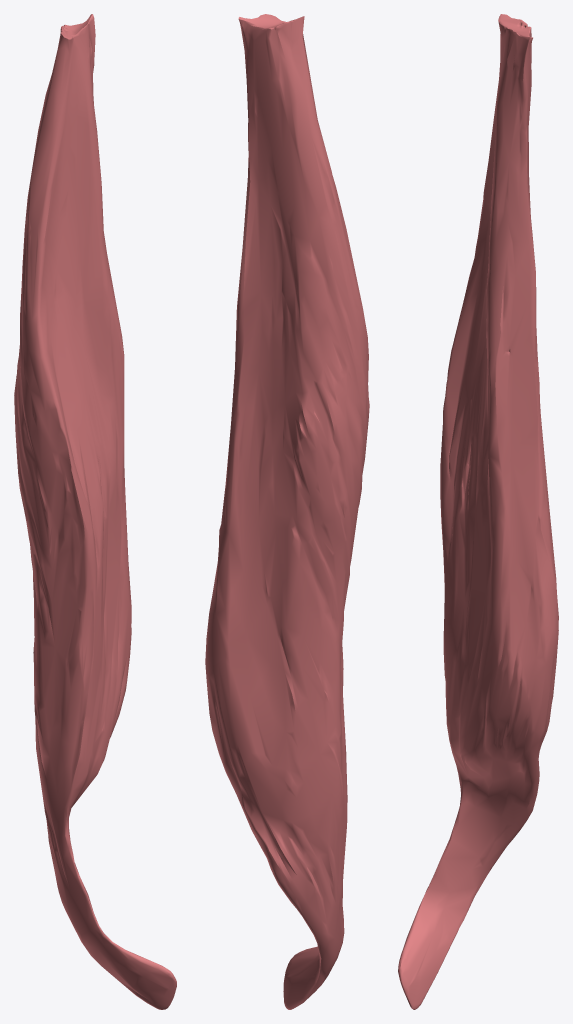
3 renders of one model, left to right at view 1: azimuth 30°, elevation 25°; view 2: azimuth 150°, elevation 25°; view 3: azimuth 270°, elevation 25°, orthographic. The views are drawn at different scales.
Parts seen in each view (by area): view 1: FJ1435M; view 2: FJ1435M; view 3: FJ1435M.
Boxes of the visible parts, box(x1,y1,x2,y2) form: FJ1435M: box(14, 14, 176, 1009); FJ1435M: box(205, 14, 369, 1009); FJ1435M: box(398, 14, 558, 1009).
Bounding box in the file's own units: 0.0575 × 0.4362 × 0.0658.
